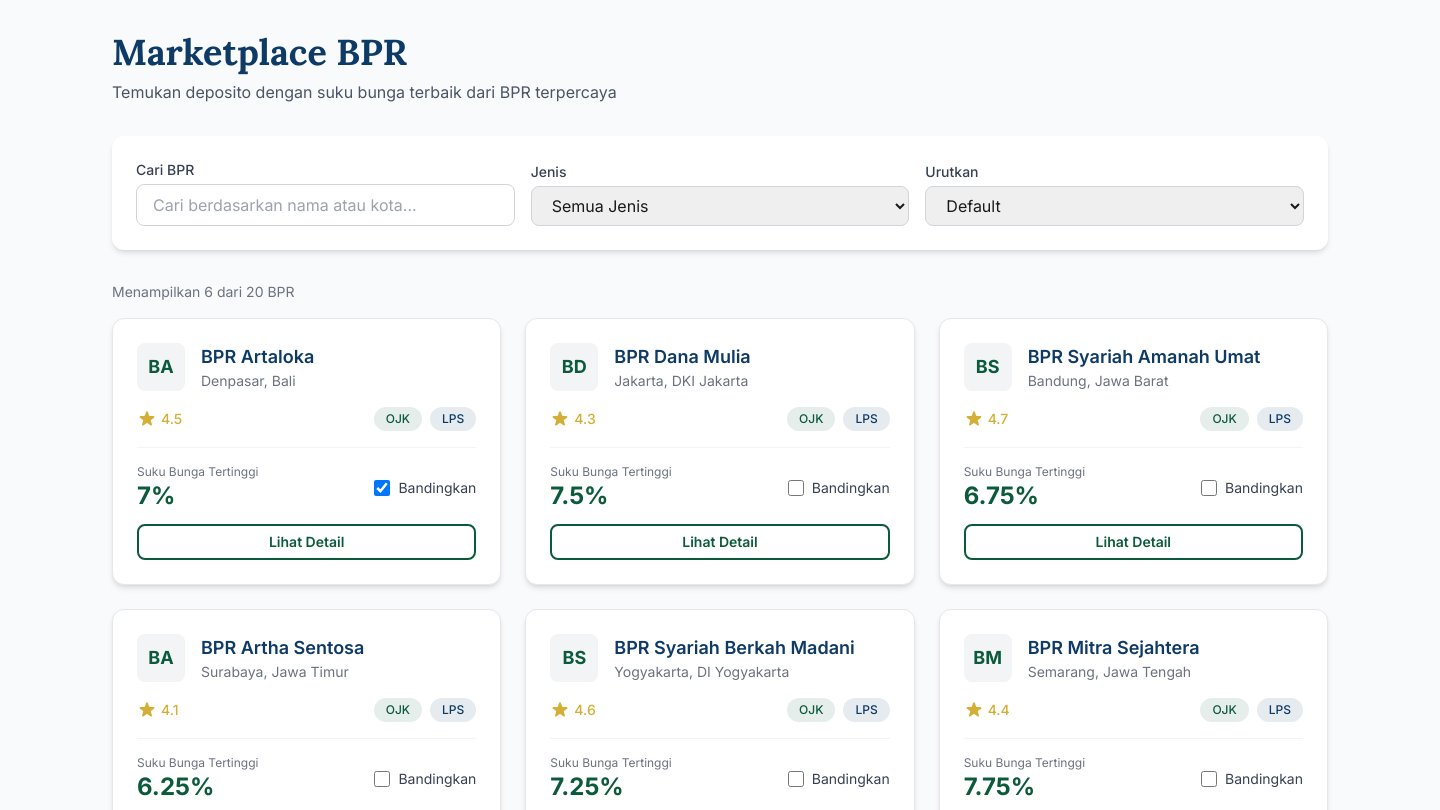
CatalogPage › Empty State › shows message when no BPRs match search
Type "xyznonexistent" into the field labelled "Cari BPR".
click(325, 205); type("xyznonexistent")  # box [136,184,515,226]
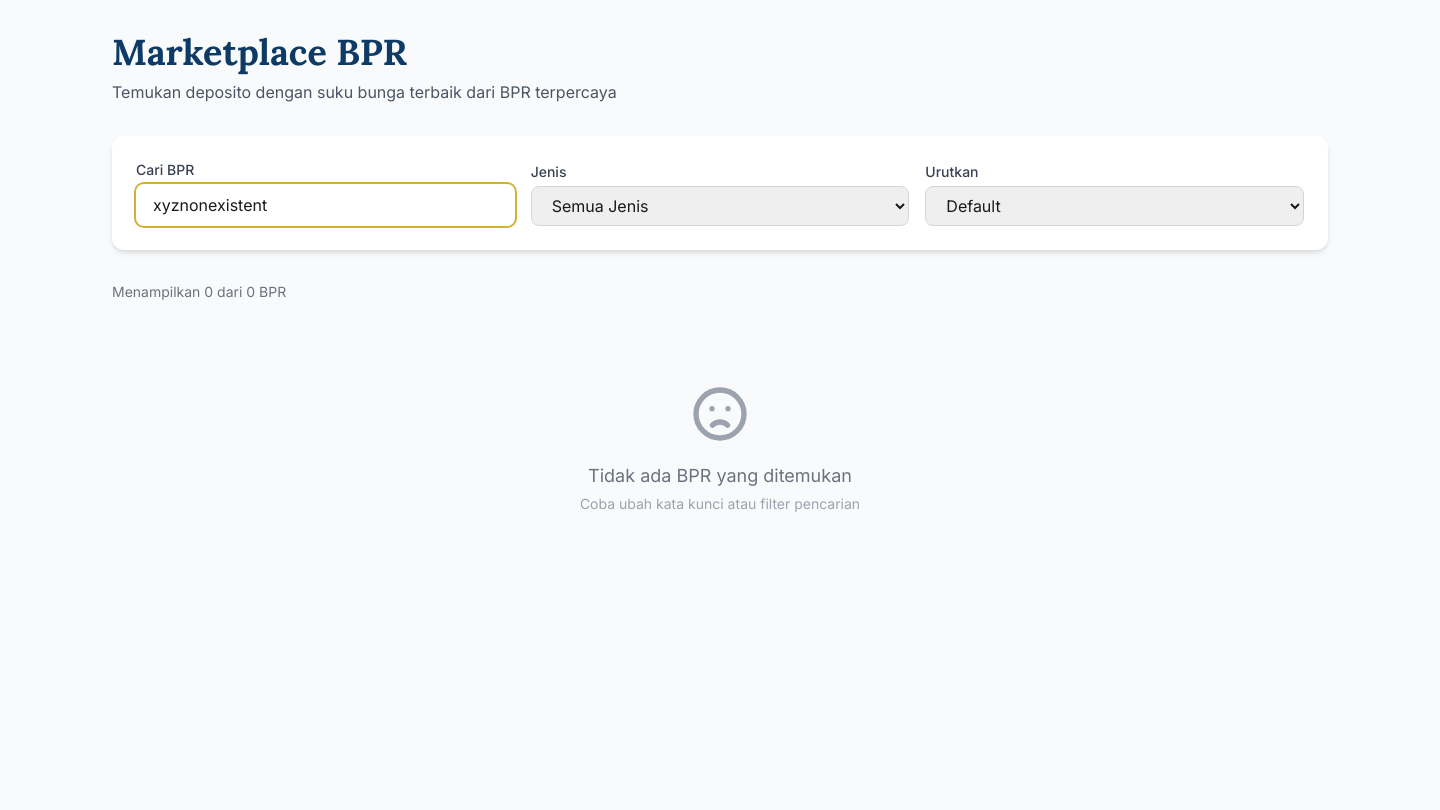
Expected: the text "Tidak ada BPR yang ditemukan" is shown, [588,465,852,486]
